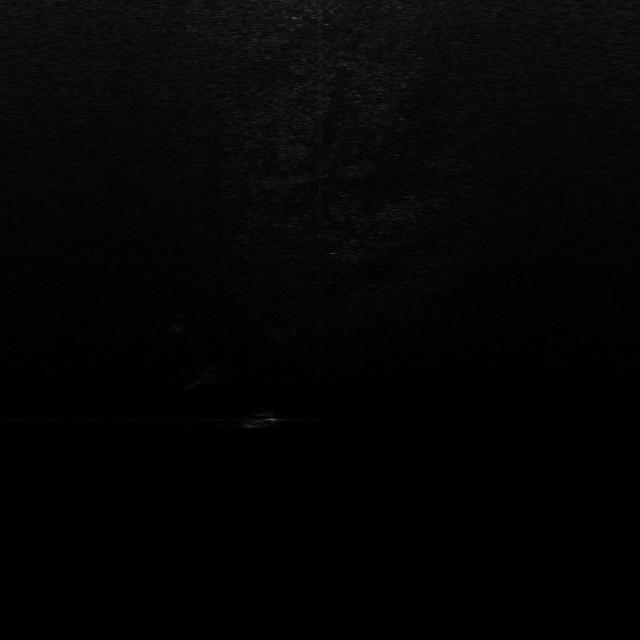ball: (200, 361, 230, 381)
circle cage: (163, 314, 192, 332)
tyre: (242, 408, 278, 429)
